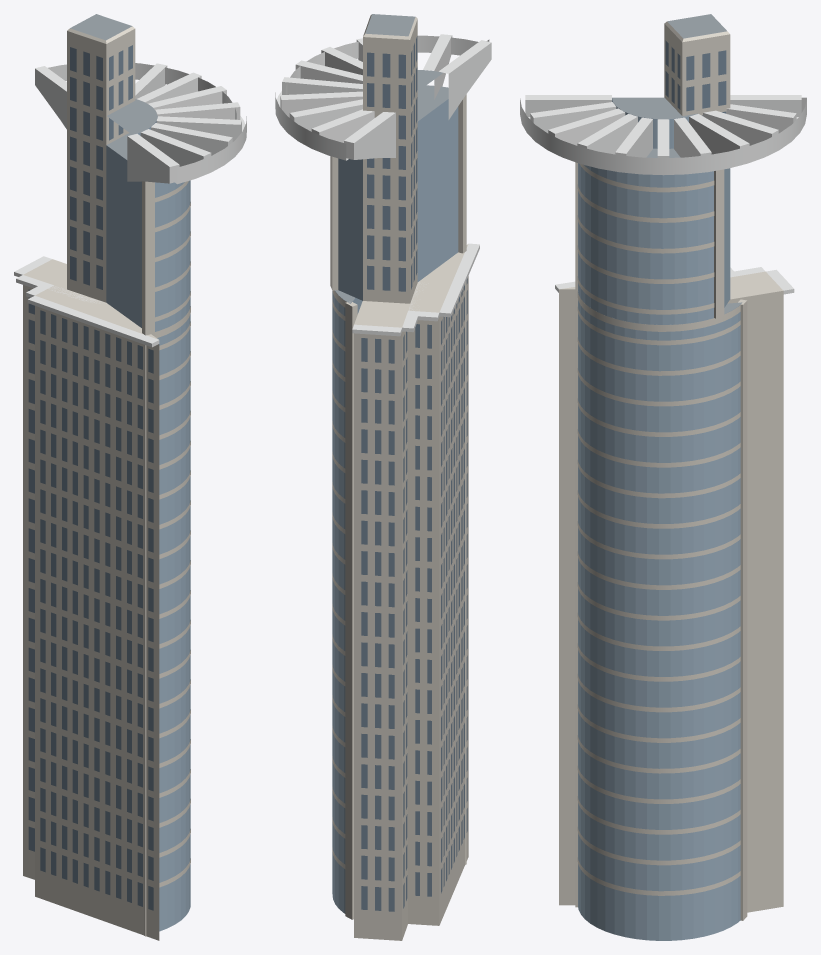
Rendered from frankfurt-westend-1.glb.
The picture shows the model from 3 angles, left to right: view 1: azimuth 30°, elevation 25°; view 2: azimuth 150°, elevation 25°; view 3: azimuth 270°, elevation 25°; orthographic projection. The views are drawn at different scales.
Parts seen in each view (by area): view 1: Westendstrasse 1; view 2: Westendstrasse 1; view 3: Westendstrasse 1.
Boxes of the visible parts, x1,y1,x2,y2 form: Westendstrasse 1: (14,14,246,940); Westendstrasse 1: (275,14,491,940); Westendstrasse 1: (520,14,806,940).
Bounding box in the file's own units: 44.75 × 208 × 61.2.
